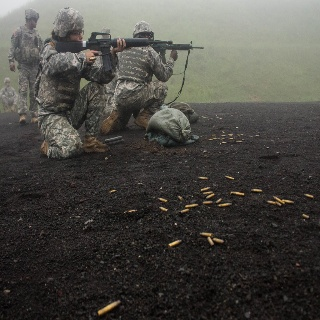rifle: (54, 31, 173, 72), (152, 37, 205, 63)
